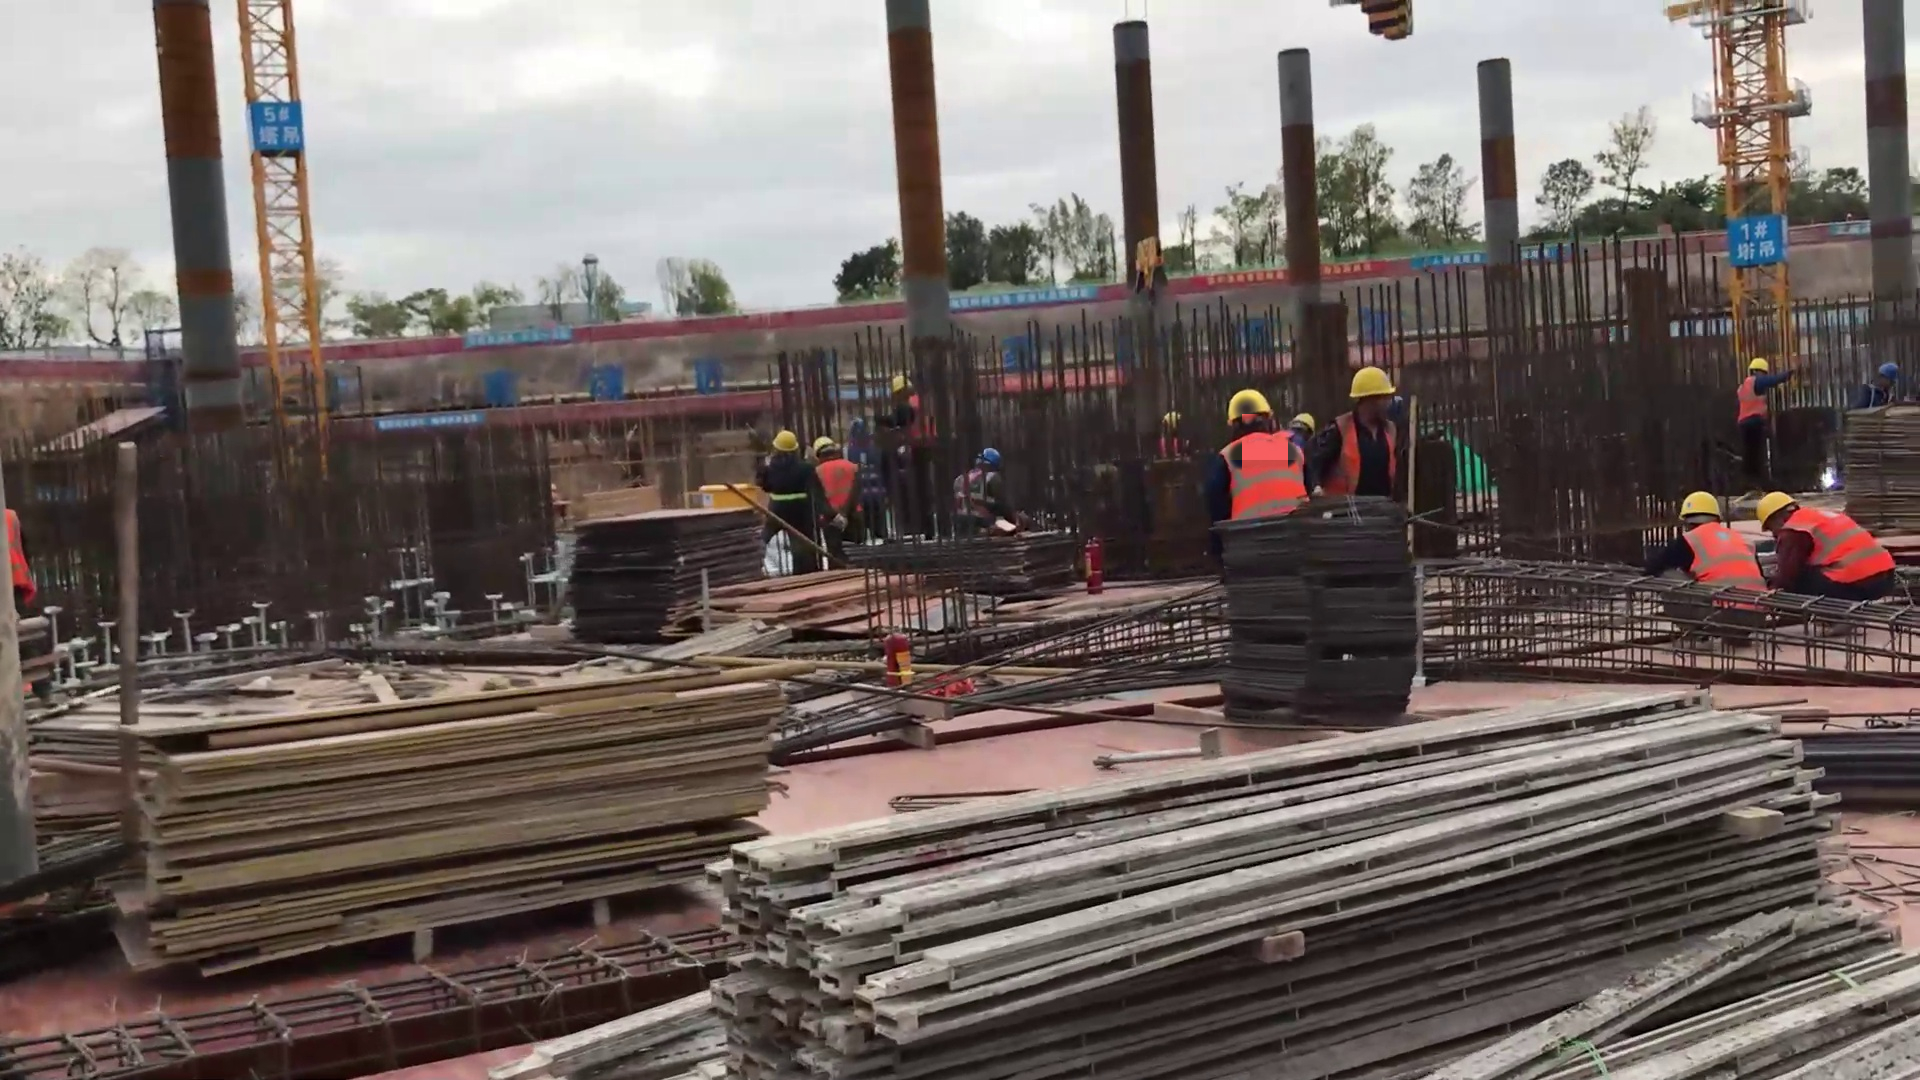board: (101, 669, 793, 974)
ebox: (703, 477, 753, 519)
helmet: (1759, 492, 1800, 533), (1230, 389, 1269, 428), (1346, 371, 1393, 399), (1677, 493, 1726, 519), (1873, 360, 1903, 385), (978, 447, 1006, 468), (890, 372, 914, 395), (1164, 410, 1187, 435), (810, 433, 836, 454), (846, 415, 870, 437), (1295, 412, 1316, 435), (1747, 356, 1768, 377), (775, 429, 798, 449)
hook: (1137, 237, 1160, 298)
person: (1755, 481, 1894, 635), (1, 480, 76, 705), (1659, 491, 1762, 637), (1304, 363, 1407, 496), (1216, 385, 1301, 535), (764, 424, 828, 571), (1730, 360, 1785, 484), (819, 434, 868, 551), (845, 414, 894, 529), (951, 441, 1011, 527), (884, 368, 941, 447), (1852, 352, 1920, 410), (1161, 411, 1192, 456), (1284, 411, 1312, 455)
vest: (1305, 419, 1396, 499), (1233, 434, 1298, 522), (1, 509, 49, 614), (765, 449, 809, 529), (819, 456, 867, 522), (953, 466, 1001, 524), (853, 433, 886, 497), (903, 396, 940, 445), (1158, 434, 1189, 453)
